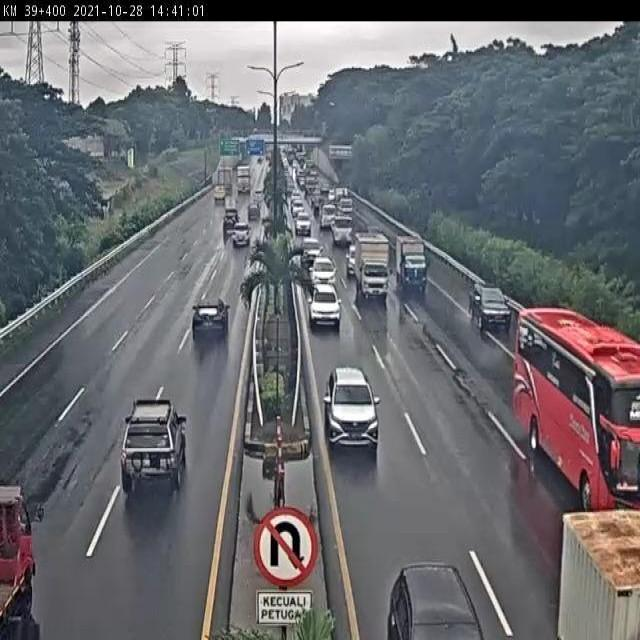bus-l-: (514, 311, 640, 517)
car: (119, 399, 188, 497), (322, 365, 379, 452), (468, 283, 514, 329), (190, 296, 230, 341), (308, 285, 343, 328), (309, 252, 337, 285)
truck-m-: (356, 232, 391, 301)
truck-s-: (395, 233, 429, 292)
